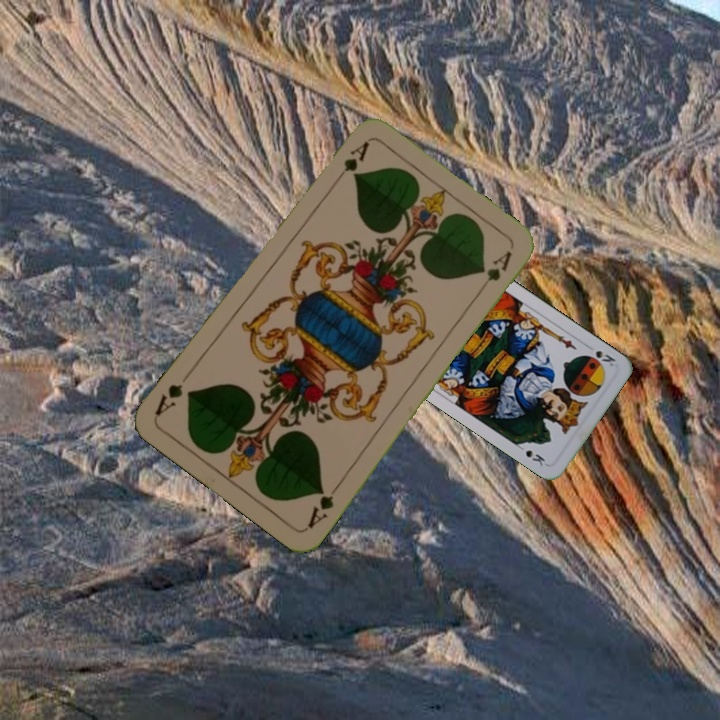GA: (328, 137, 372, 188), (303, 480, 342, 531)
SK: (591, 346, 618, 369)
